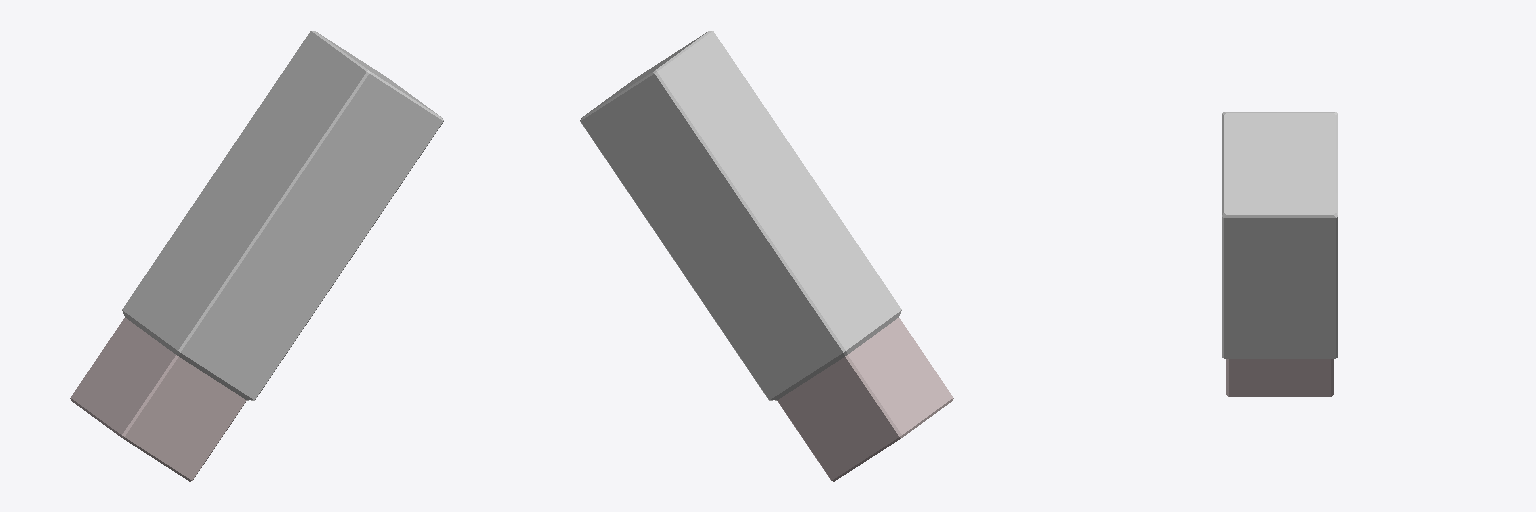
The picture shows the model from 3 angles: view 1: azimuth 30°, elevation 25°; view 2: azimuth 150°, elevation 25°; view 3: azimuth 270°, elevation 25°; orthographic projection.
Parts seen in each view (by area): view 1: MaleRARM; view 2: MaleRARM; view 3: MaleRARM.
Part boxes in pixels (left/top/right/bottom): MaleRARM: left=70, top=31, right=443, bottom=481; MaleRARM: left=580, top=31, right=953, bottom=481; MaleRARM: left=1222, top=112, right=1337, bottom=396.
Bounding box in the file's own units: 2.52 × 2.78 × 0.7966.
Materials: 1 (1 with a texture image).